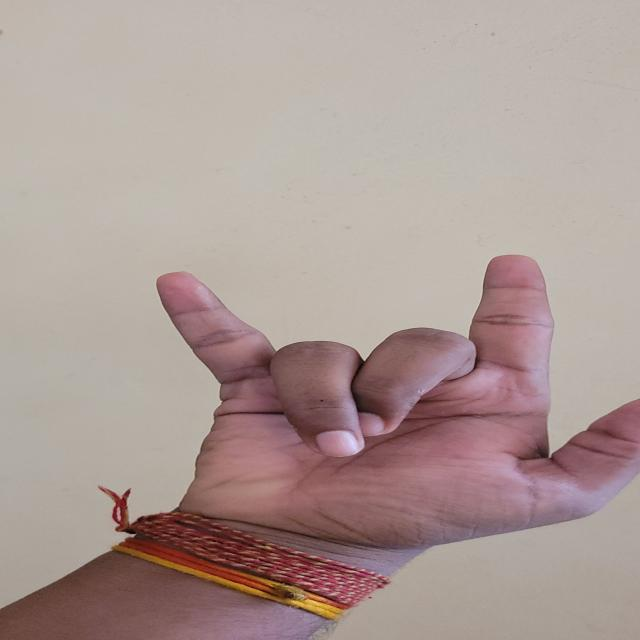i like you: (90, 219, 640, 622)
